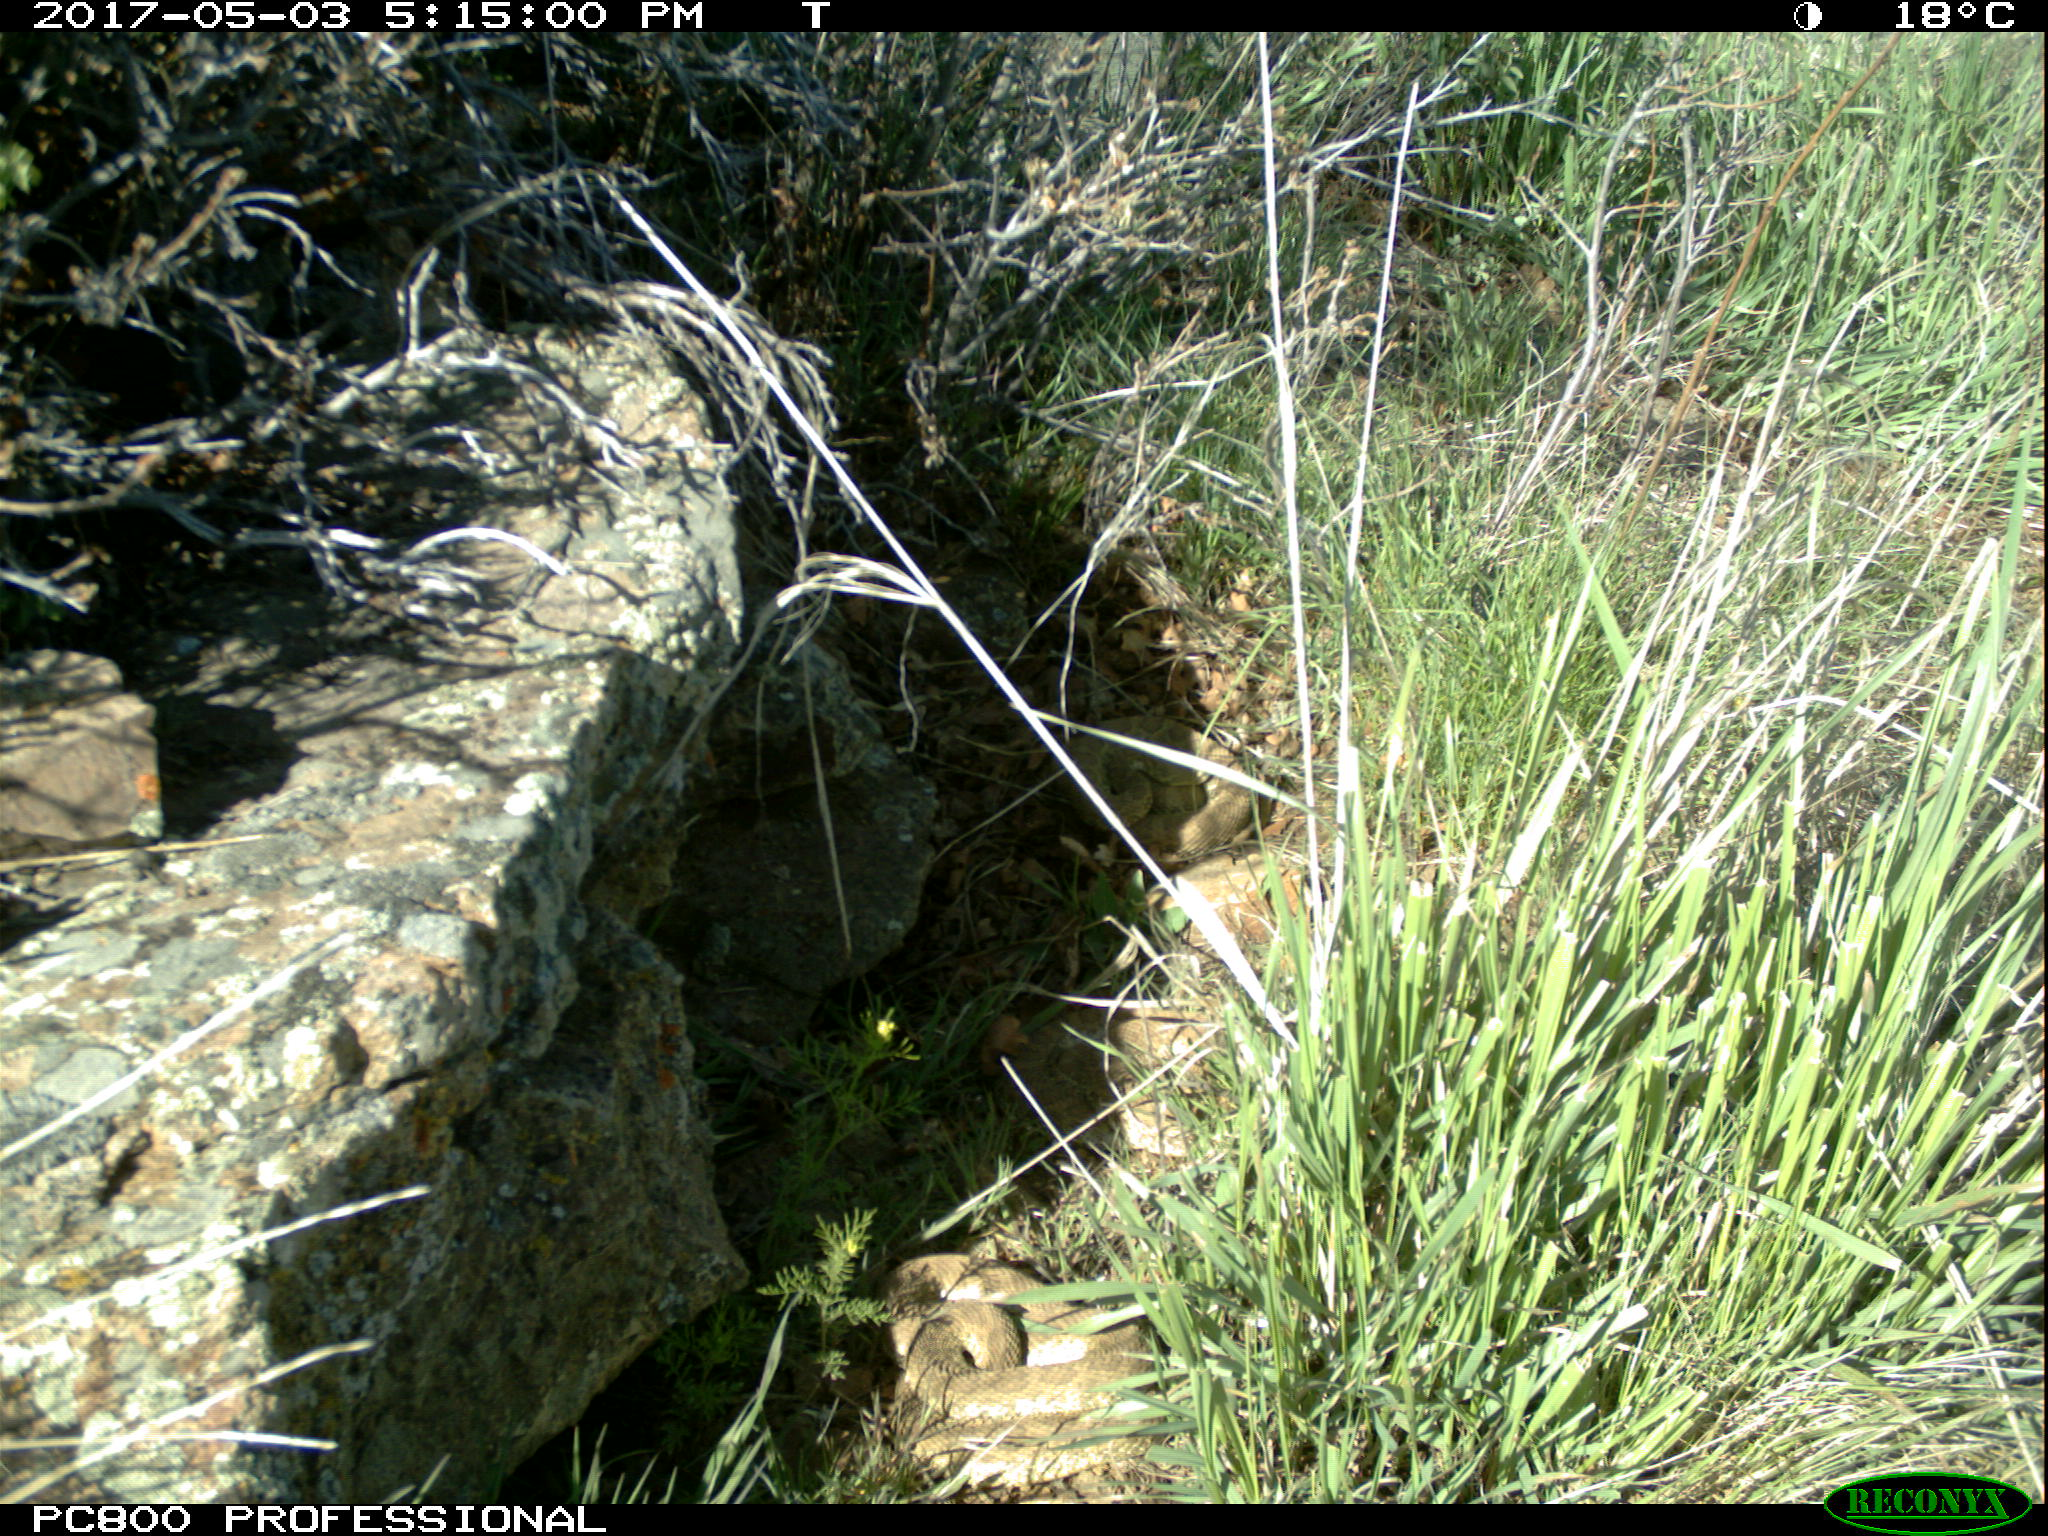snake: (871, 1249, 1164, 1483), (1001, 1004, 1251, 1158), (1076, 718, 1264, 858)
